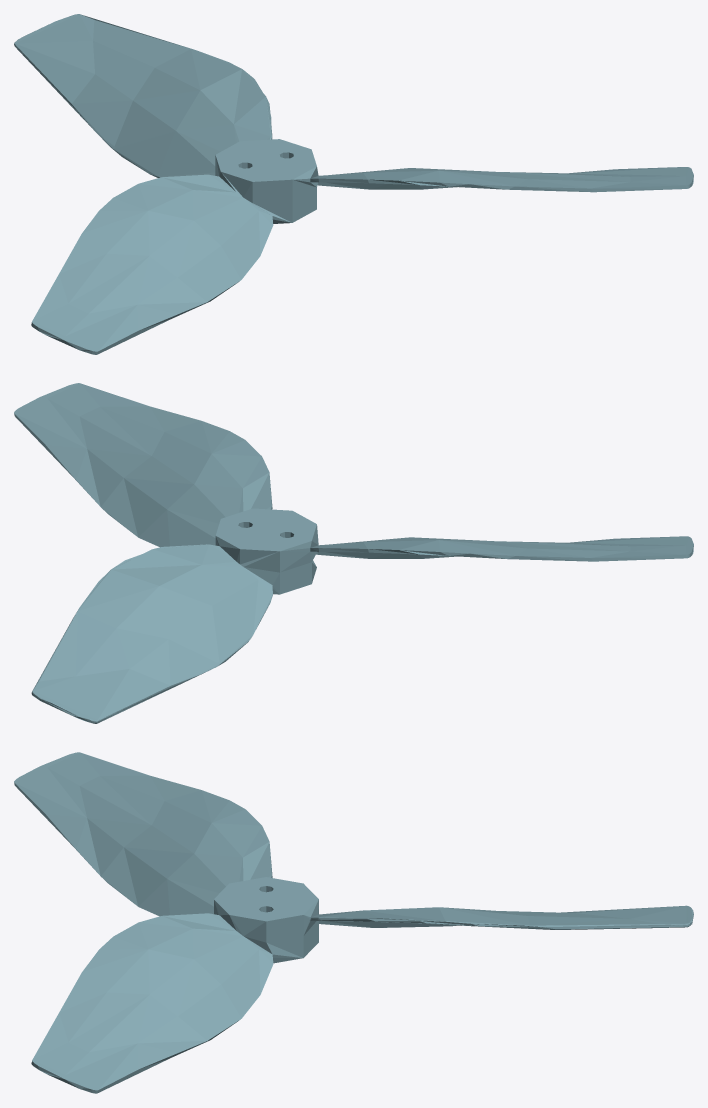
Rendered from sunray150_dae_mid360_realistic_material_audit_gazebo_propeller_rotor_3.obj.
The picture shows the model from 3 angles, top to bottom: view 1: azimuth 30°, elevation 25°; view 2: azimuth 150°, elevation 25°; view 3: azimuth 270°, elevation 25°; orthographic projection.
Visible parts, largest first — view 1: TriBlade_flipped_around_screw_axis_rotor_3_back_right_sunray_cw_; view 2: TriBlade_flipped_around_screw_axis_rotor_3_back_right_sunray_cw_; view 3: TriBlade_flipped_around_screw_axis_rotor_3_back_right_sunray_cw_.
Part boxes in pixels (x1,y1,x2,y2): TriBlade_flipped_around_screw_axis_rotor_3_back_right_sunray_cw_: [14, 14, 693, 354]; TriBlade_flipped_around_screw_axis_rotor_3_back_right_sunray_cw_: [14, 383, 693, 723]; TriBlade_flipped_around_screw_axis_rotor_3_back_right_sunray_cw_: [14, 752, 693, 1093].
Bounding box in the file's own units: 0.0805 × 0.00732 × 0.0712.
